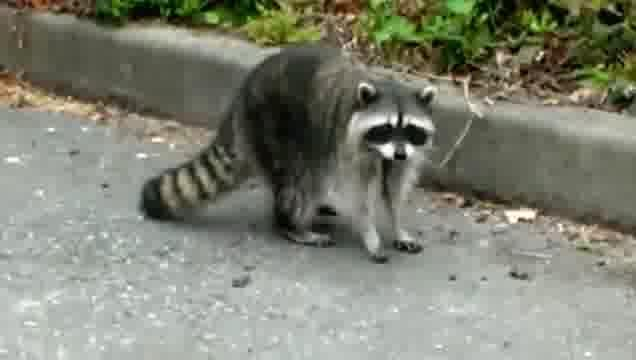raccoon: (141, 47, 433, 260)
